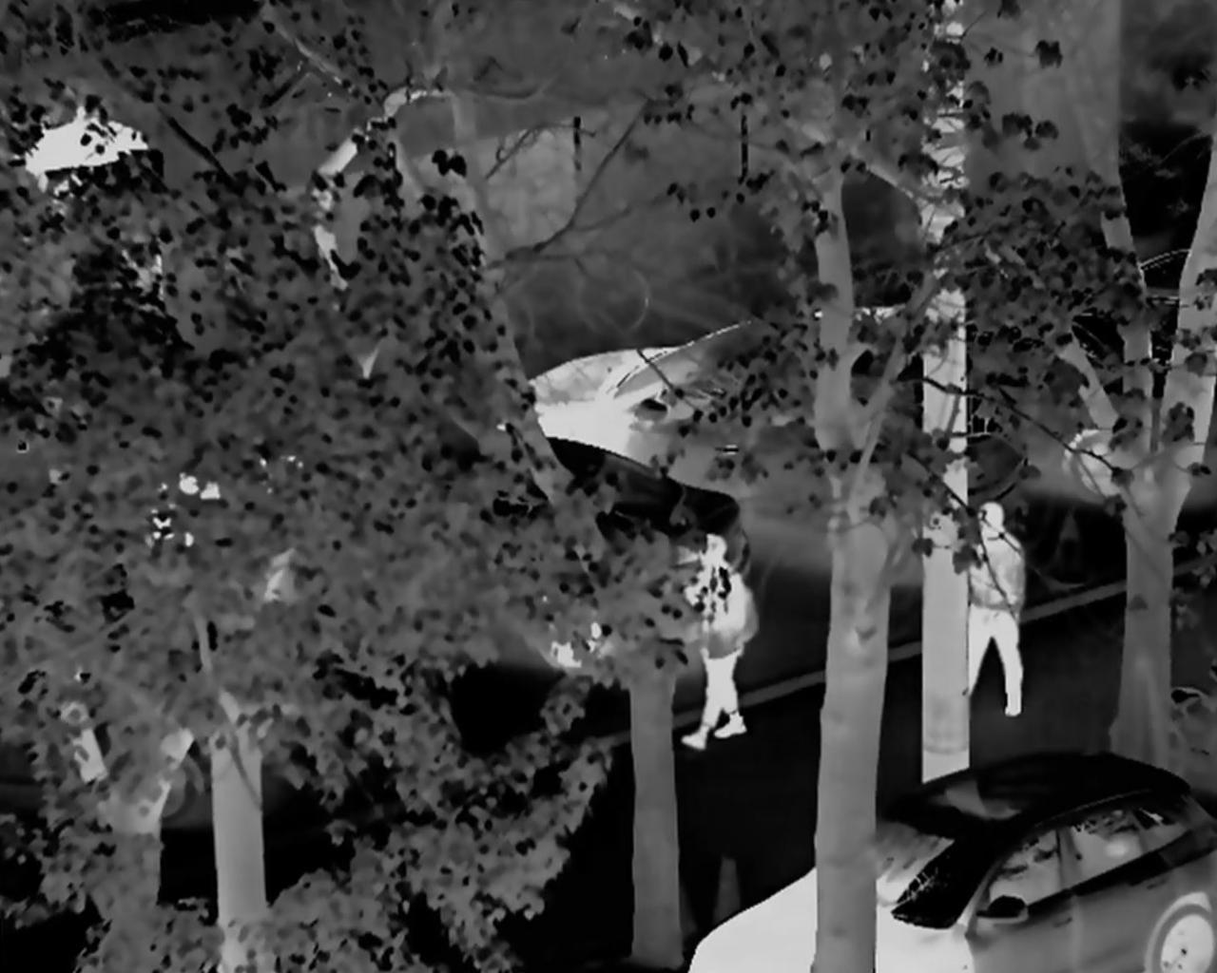person: (677, 531, 761, 747), (960, 493, 1029, 734)
